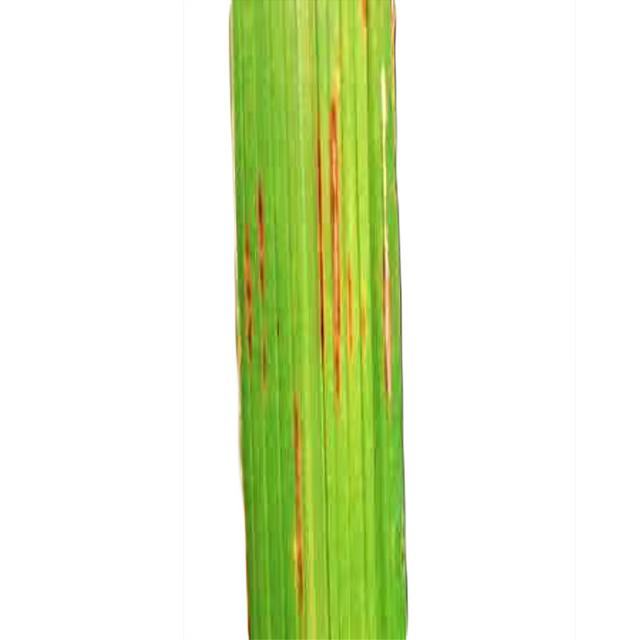Narrow brown: (202, 0, 512, 640)
